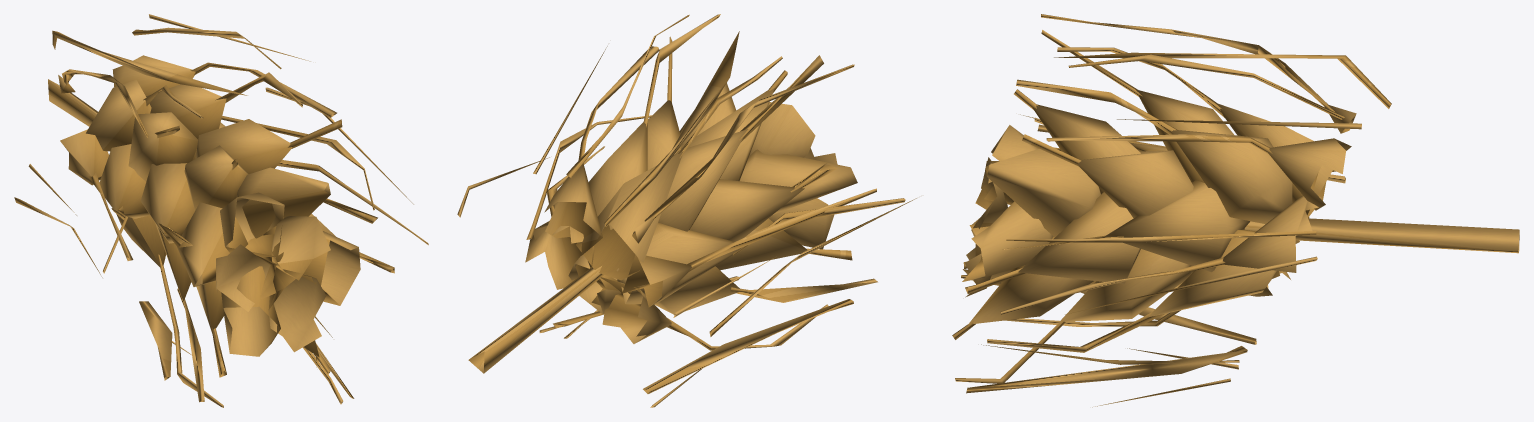
The model's file is unti2tled.fbx.
The picture shows the model from 3 angles, left to right: view 1: azimuth 30°, elevation 25°; view 2: azimuth 150°, elevation 25°; view 3: azimuth 270°, elevation 25°; orthographic projection. The views are drawn at different scales.
Visible parts, largest first — view 1: Oats_02 (3); view 2: Oats_02 (3); view 3: Oats_02 (3).
Part boxes in pixels (x1=…): Oats_02 (3): x1=14, y1=14, x2=428, y2=407; Oats_02 (3): x1=457, y1=14, x2=916, y2=407; Oats_02 (3): x1=952, y1=14, x2=1519, y2=407.
Bounding box in the file's own units: 49.1 × 44.53 × 68.48.
